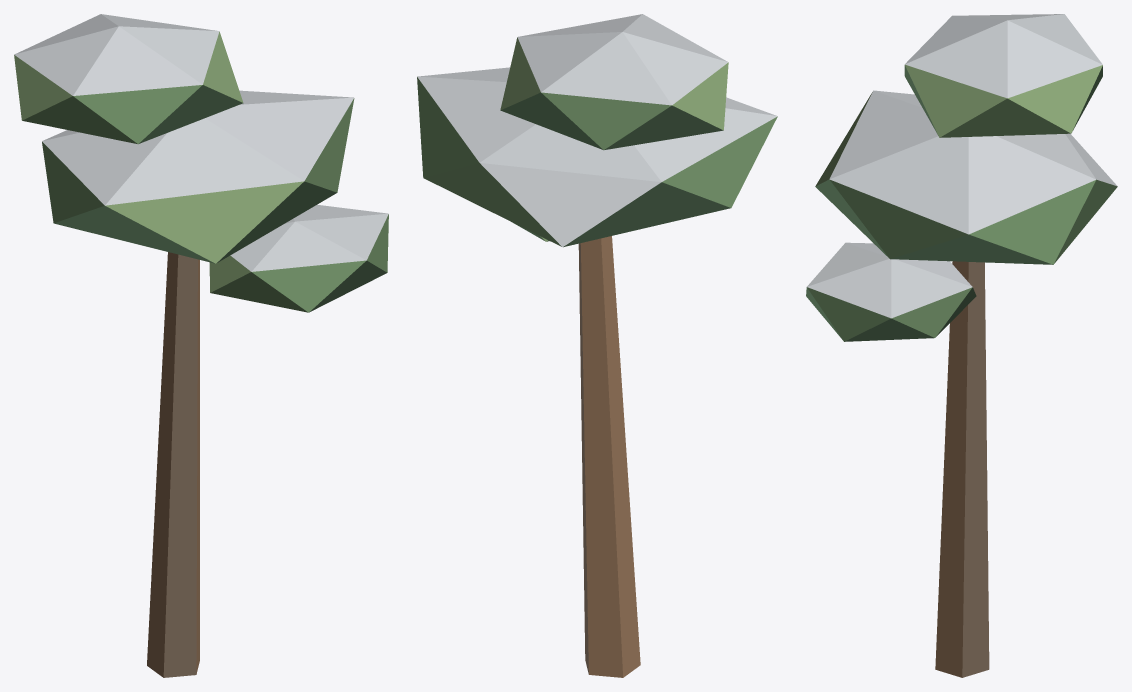
File: pine_snowy.glb
3 views of the same model, side by side, from view 1: azimuth 30°, elevation 25°; view 2: azimuth 150°, elevation 25°; view 3: azimuth 270°, elevation 25° (orthographic). The views are drawn at different scales.
Parts seen in each view (by area): view 1: pine_snowy; view 2: pine_snowy; view 3: pine_snowy.
Part boxes in pixels (bbox=[...]): pine_snowy: bbox=[14, 14, 388, 677]; pine_snowy: bbox=[417, 14, 777, 677]; pine_snowy: bbox=[806, 14, 1117, 677].
Size of the model in its own units: 2.79 by 5.38 by 2.42.
